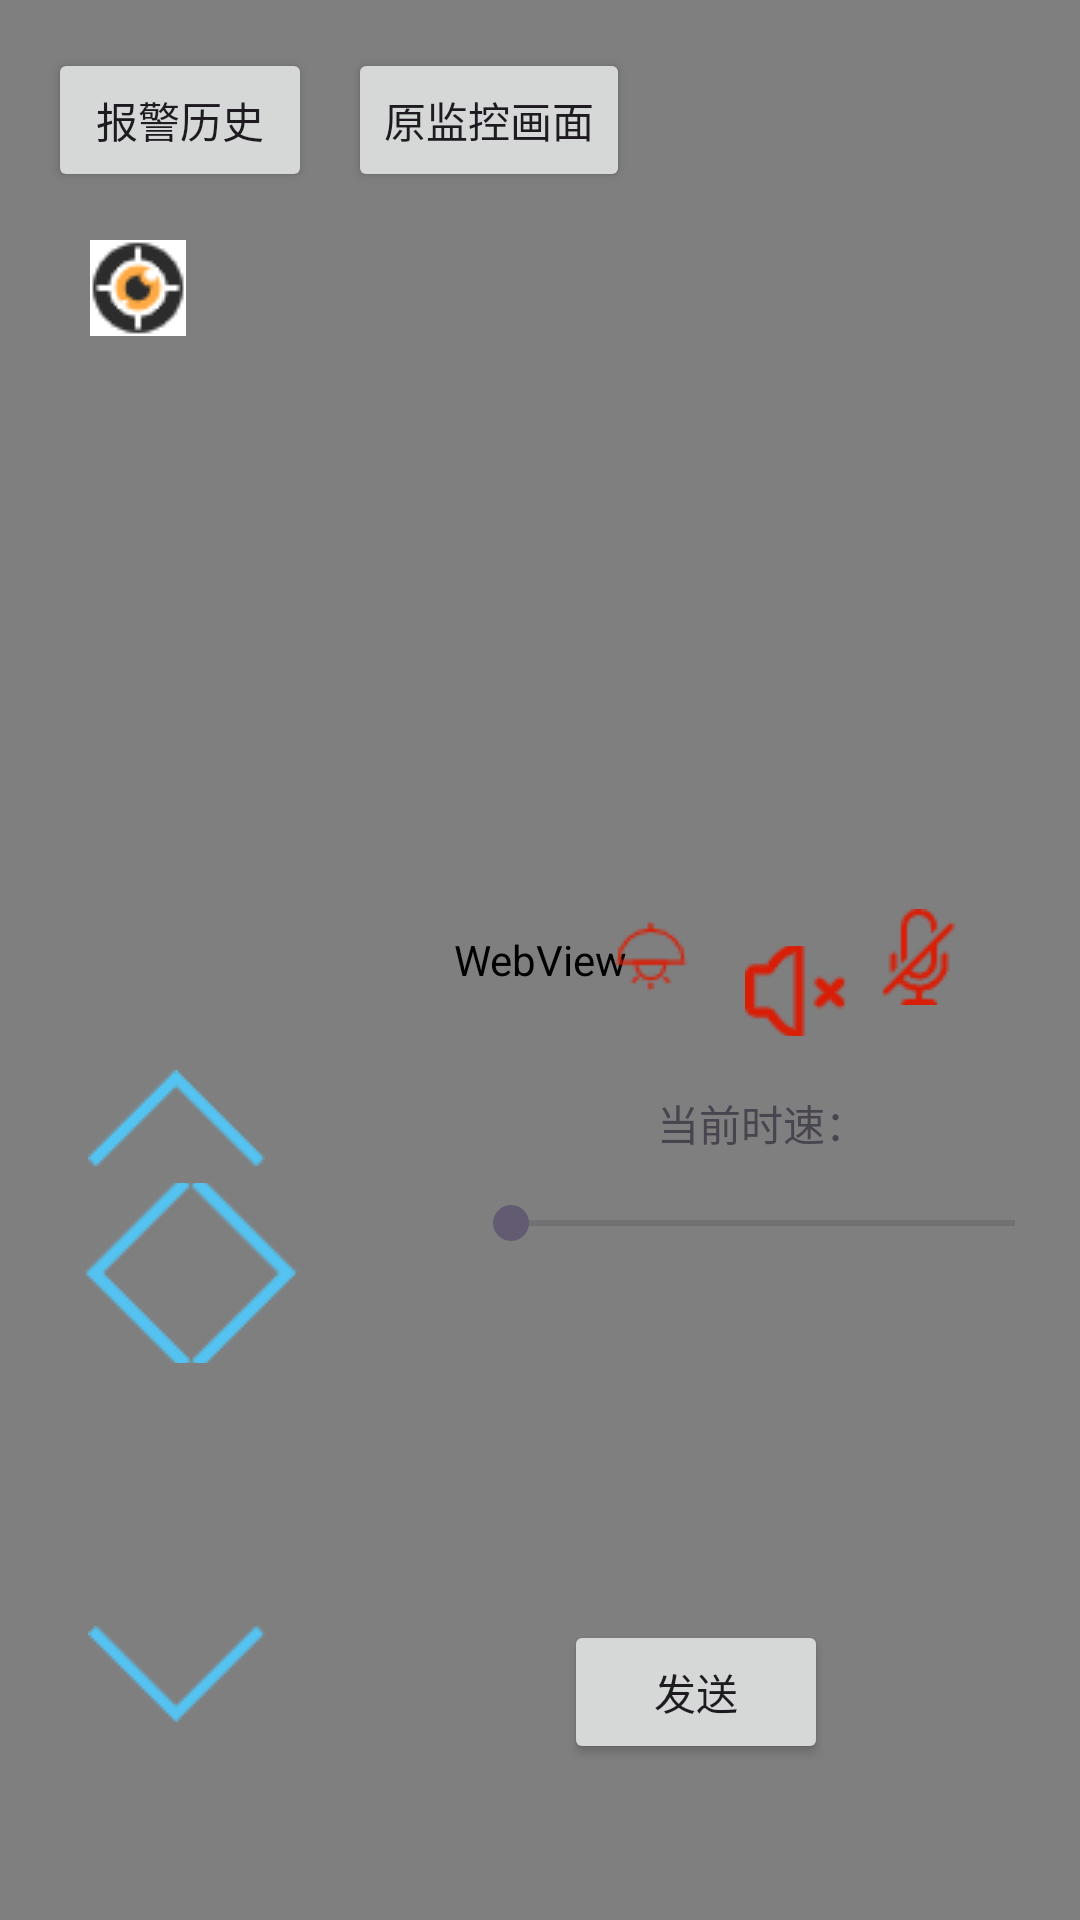

Where icons sit on this 1080px x 1920px app screen, as (x1, y1, x2, y2):
down: (88, 1626, 265, 1722)
mute: (882, 909, 955, 1005)
开启检测: (90, 240, 186, 336)
摄像头声音: (745, 946, 845, 1036)
